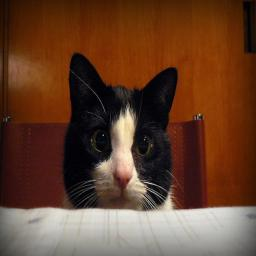catnose: (112, 167, 132, 190)
